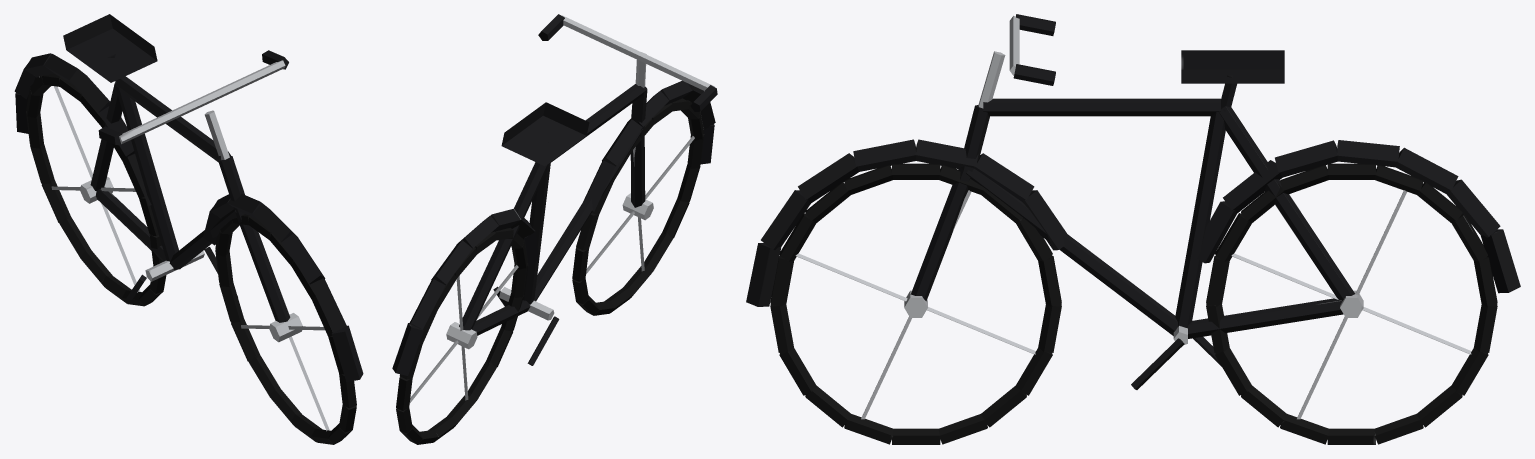
Rendered from kolo_ebe31bd3.glb.
The picture shows the model from 3 angles, left to right: view 1: azimuth 30°, elevation 25°; view 2: azimuth 150°, elevation 25°; view 3: azimuth 270°, elevation 25°; orthographic projection. The views are drawn at different scales.
Visible parts, largest first — view 1: dum; view 2: dum; view 3: dum.
Boxes of the visible parts, x1,y1,x2,y2 form: dum: [14, 14, 363, 444]; dum: [392, 14, 717, 444]; dum: [746, 14, 1520, 444].
Size of the model in its own units: 0.5867 by 1.09 by 1.95.
1 material, 1 textured.
